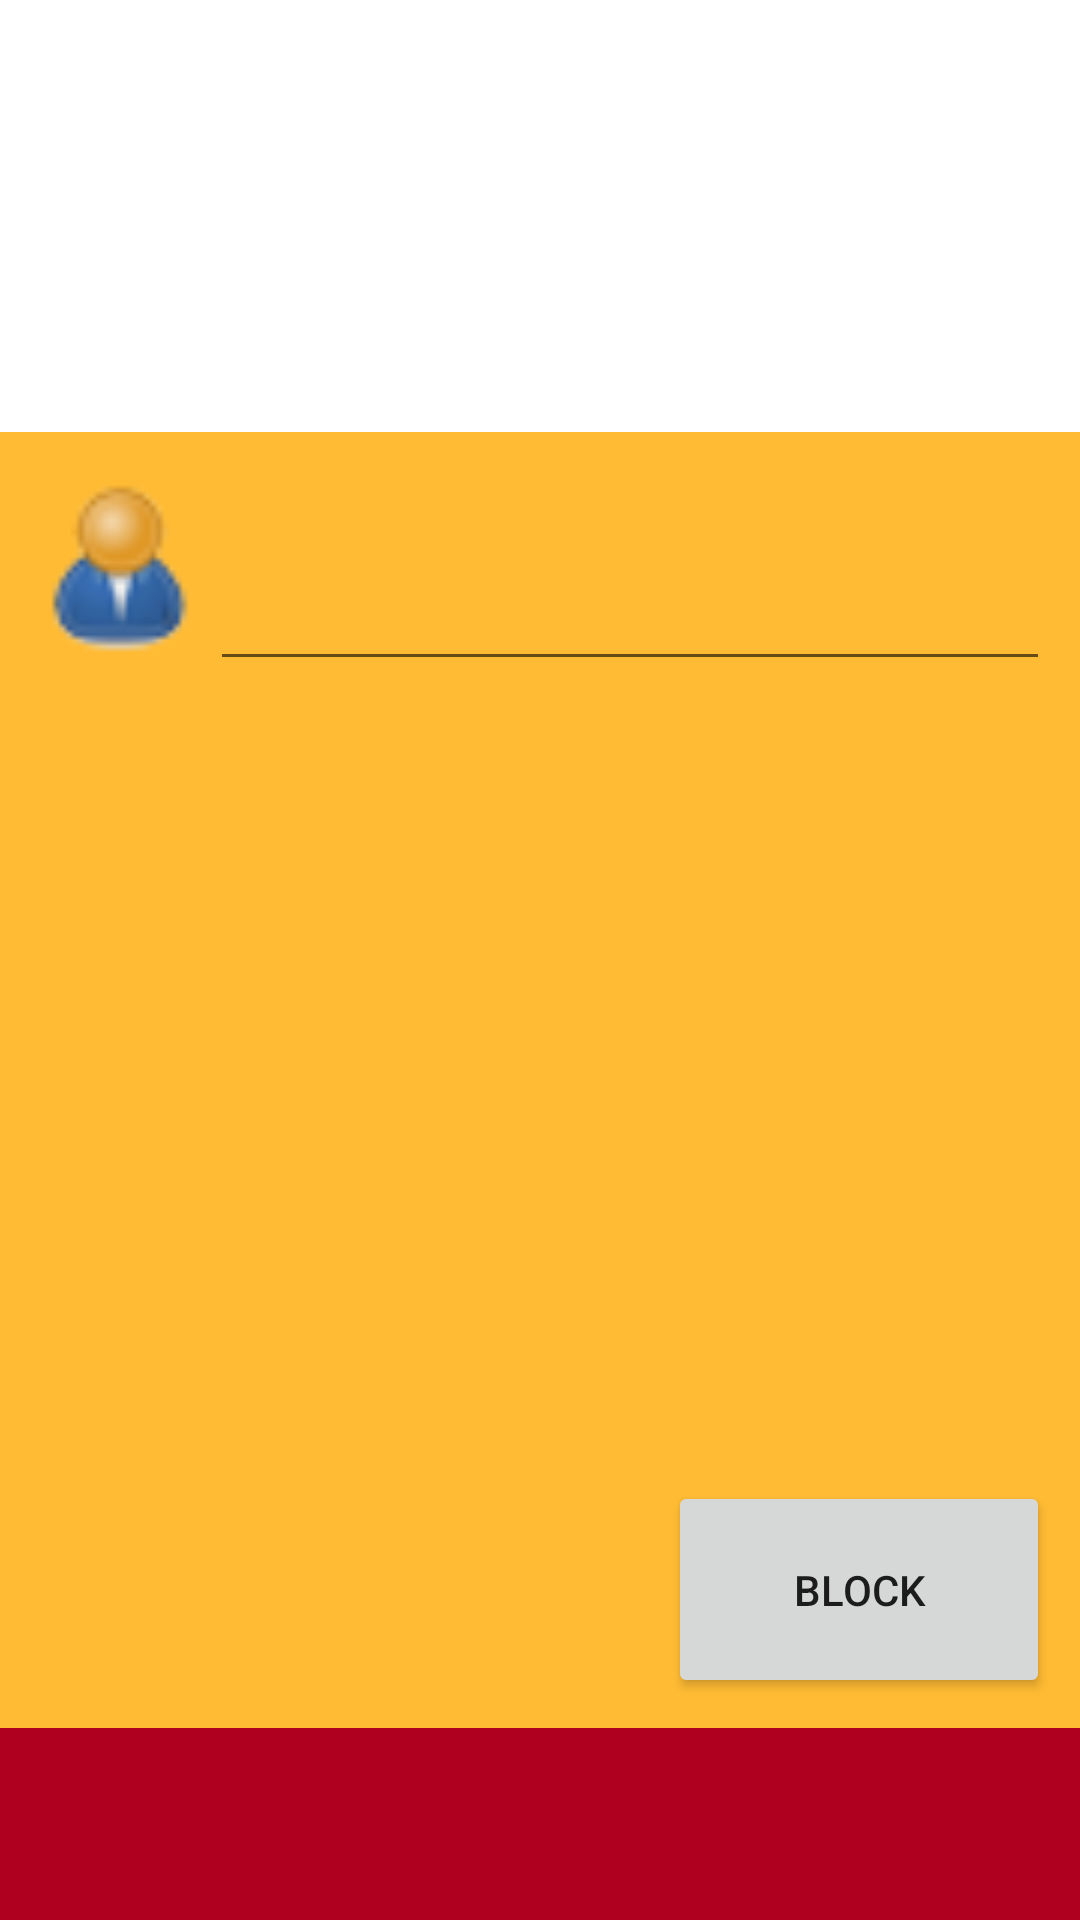

Icons on this 1080 × 1920 Android screen, each with its box as (x1=x1, y1=y1, x2=x2, y2=y2):
user: (x1=52, y1=488, x2=188, y2=651)
